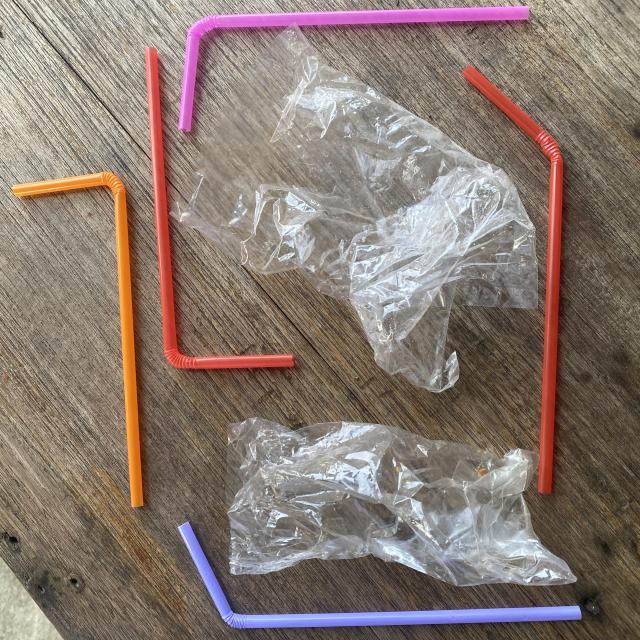Single-layer Plastic: (176, 26, 538, 392), (226, 418, 575, 586)
